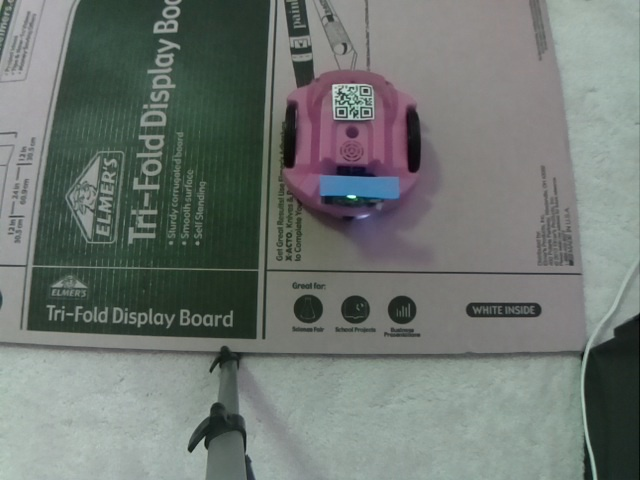board: (318, 169, 402, 212)
chassis: (277, 67, 427, 227)
